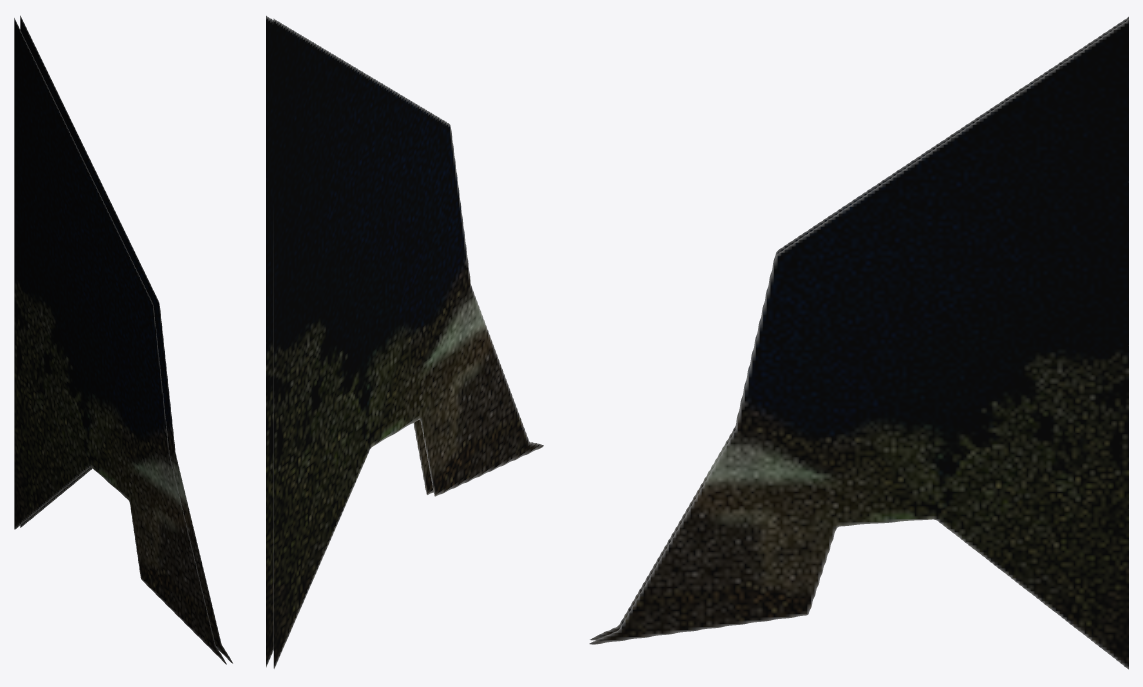
Rendered from Peça 2.fbx.
3 renders of one model, left to right at view 1: azimuth 30°, elevation 25°; view 2: azimuth 150°, elevation 25°; view 3: azimuth 270°, elevation 25°, orthographic. The views are drawn at different scales.
Parts seen in each view (by area): view 1: Plane; view 2: Plane; view 3: Plane.
Part boxes in pixels (left/top/right/bottom): Plane: left=14, top=15, right=232, bottom=664; Plane: left=266, top=15, right=543, bottom=668; Plane: left=589, top=16, right=1128, bottom=669.
Bounding box in the file's own units: 6.07 × 499 × 380.
